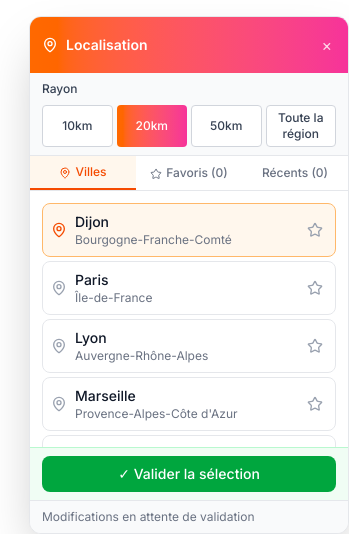
it: LocationDropdown › États vides › affiche le message quand aucun favori
(page scrolled)
// Aller sur l'onglet Favoris
What coordinates should you click on to do the following:
click the button "Favoris (0)"
I would click on:
 (189, 173)
Its box is [136,156,242,190].
(page scrolled)
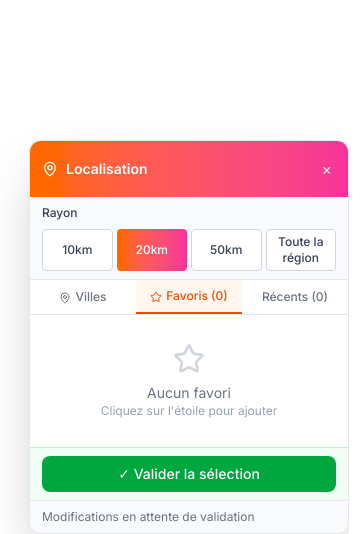
Now the text "Aucun favori" is shown, box [147,384,231,401]
